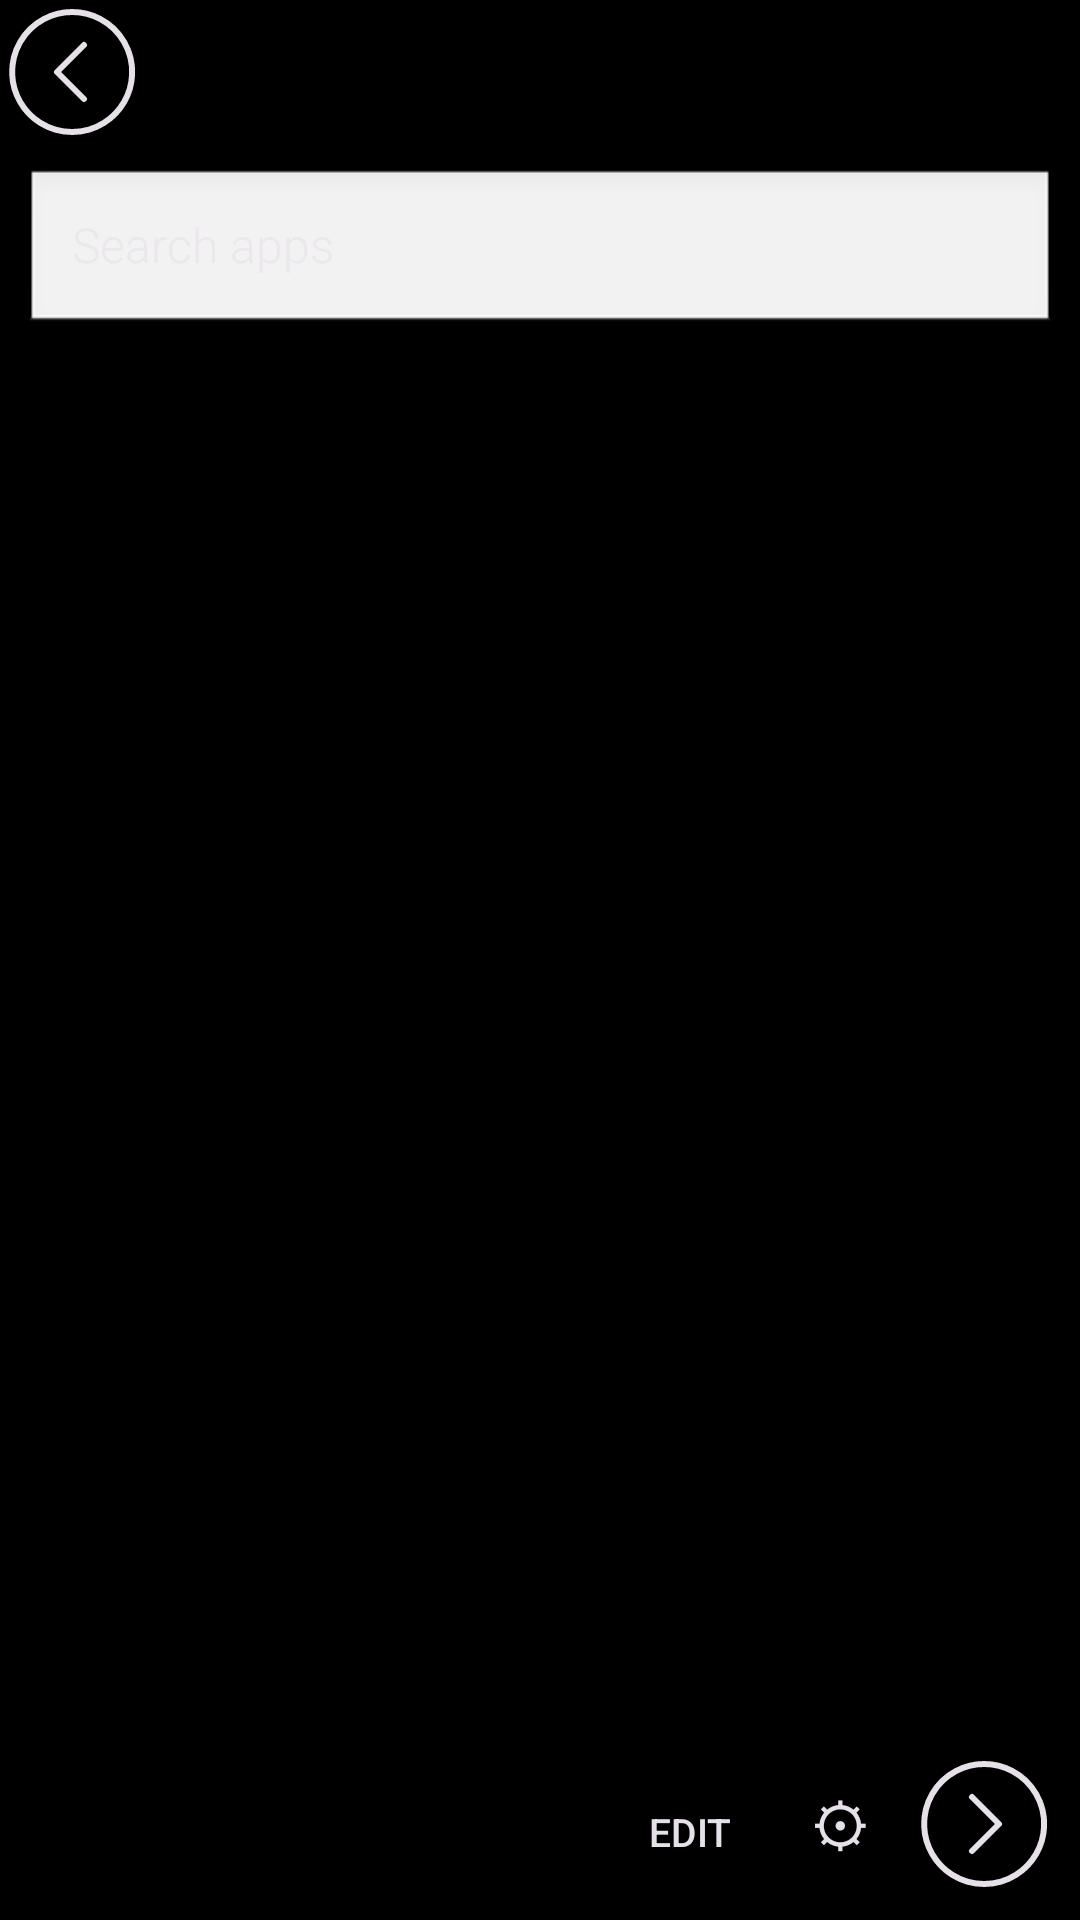

Where icons sit on this 1080w x 1920h app screen, as (x1,y1,x2,y2):
Back to Start: (9,9,135,135)
Open All Apps: (921,1761,1047,1887)
